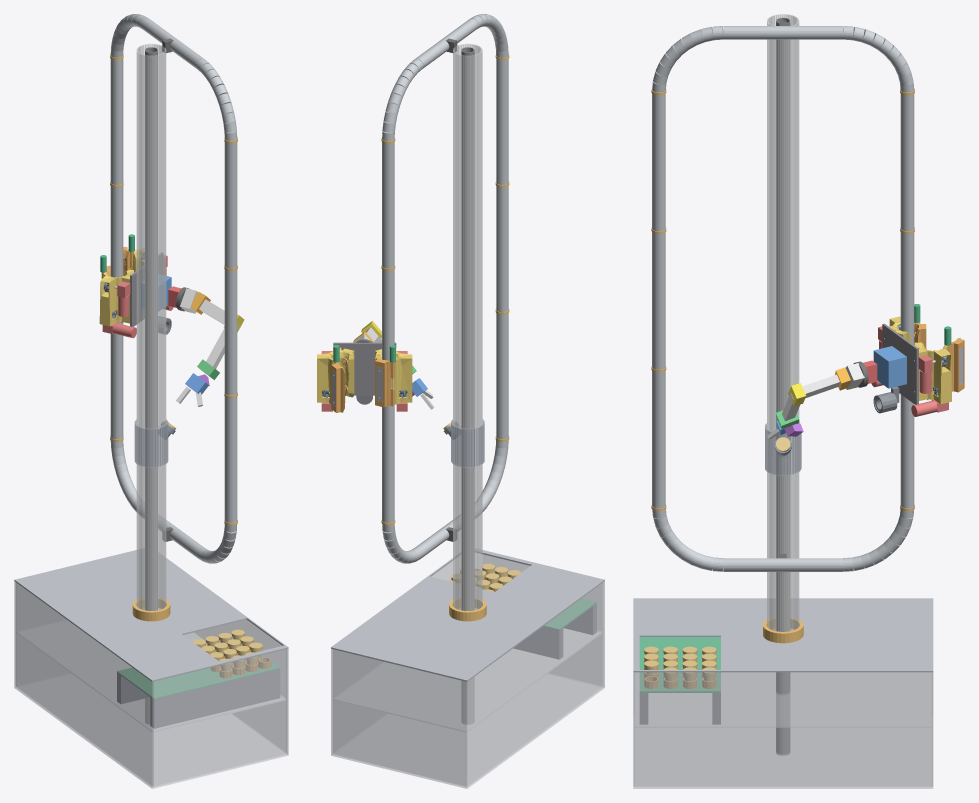
File: transplant-seedling-step4-seat-v12.glb
3 renders of one model, left to right at view 1: azimuth 30°, elevation 25°; view 2: azimuth 150°, elevation 25°; view 3: azimuth 270°, elevation 25°, orthographic. The views are drawn at different scales.
Size of the model in its own units: 0.4917 by 1.9 by 0.7736.
